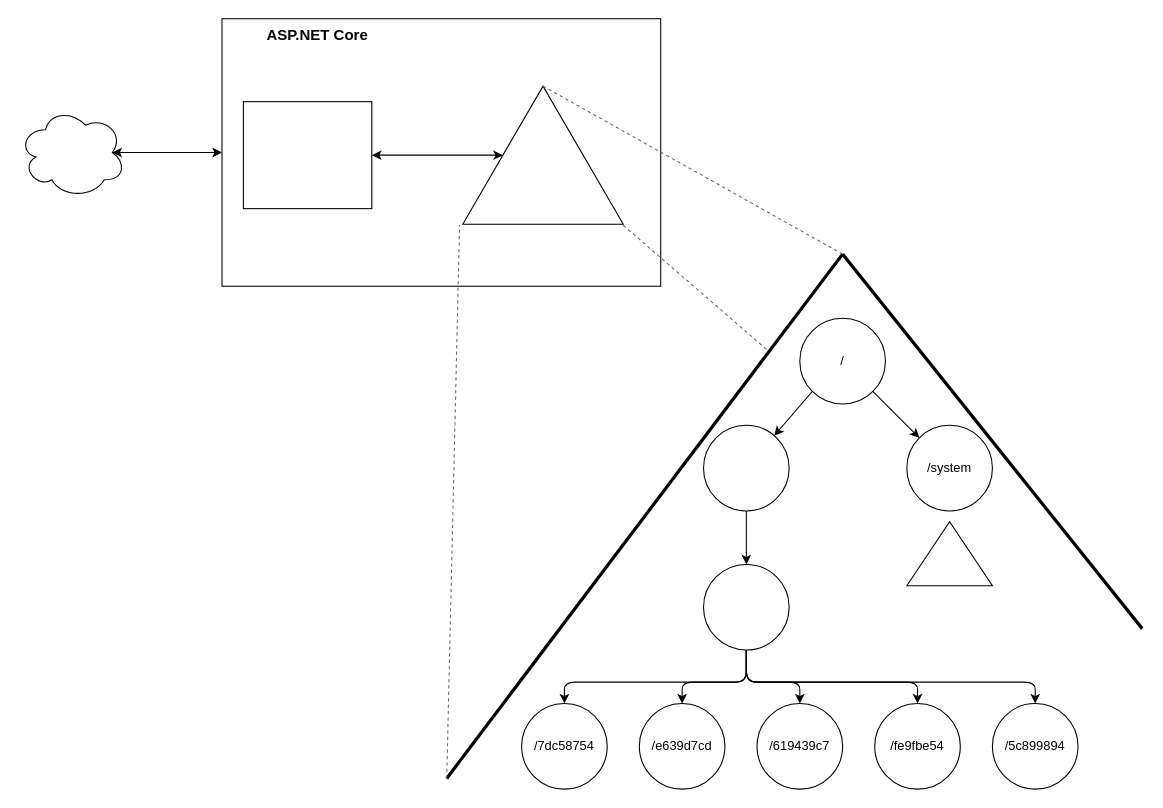
Some shapes in this 1163 by 808 pixel diagram are drawn without their labels. Each missing label, with the centre of its shape:
"/bin" goes at [745,606].
"/user" goes at [745,467].
"ActorSystem" goes at [542,154].
"Bin API" goes at [307,155].
